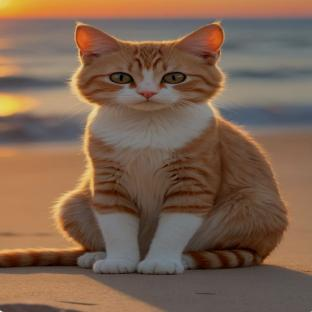Animal: (0, 22, 289, 274)
